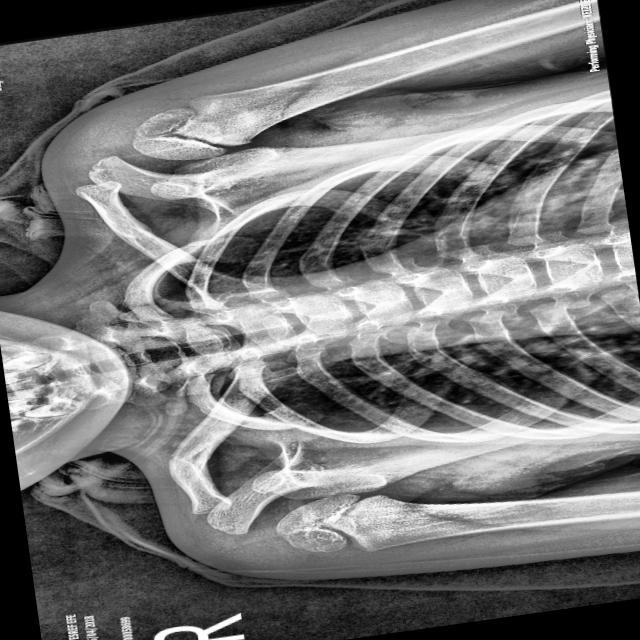Fracture: (159, 436, 230, 486)
